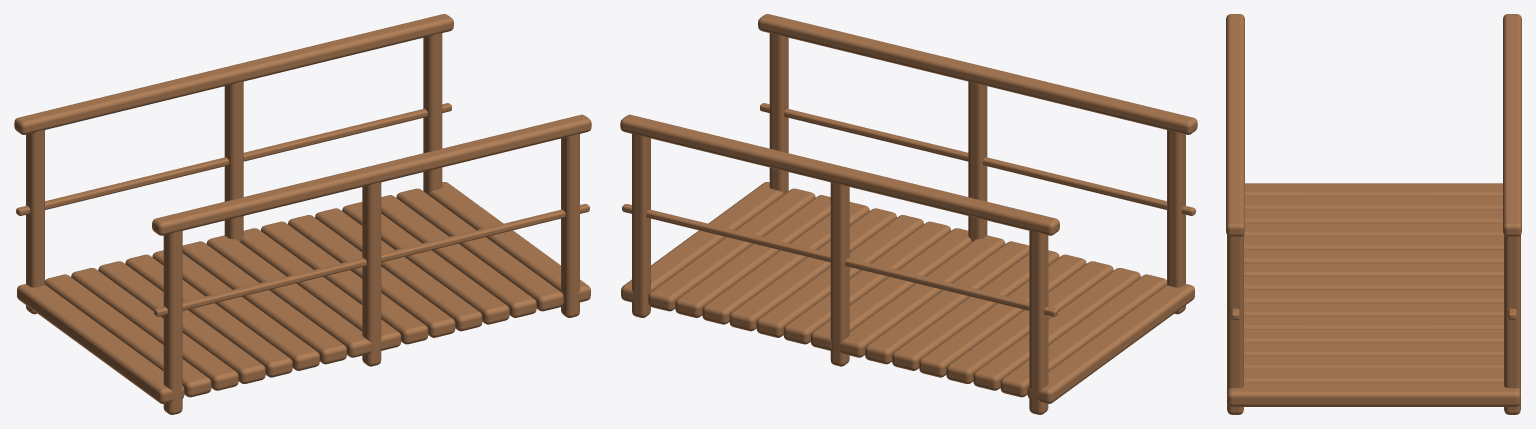
Rendered from bridge.glb.
The picture shows the model from 3 angles, left to right: view 1: azimuth 30°, elevation 25°; view 2: azimuth 150°, elevation 25°; view 3: azimuth 270°, elevation 25°; orthographic projection.
Parts seen in each view (by area): view 1: bridge; view 2: bridge; view 3: bridge.
Part boxes in pixels (bbox=[...]): bridge: bbox=[14, 14, 591, 414]; bridge: bbox=[620, 14, 1197, 414]; bridge: bbox=[1226, 14, 1521, 414].
Bounding box in the file's own units: 2.4 × 1.04 × 1.41.
